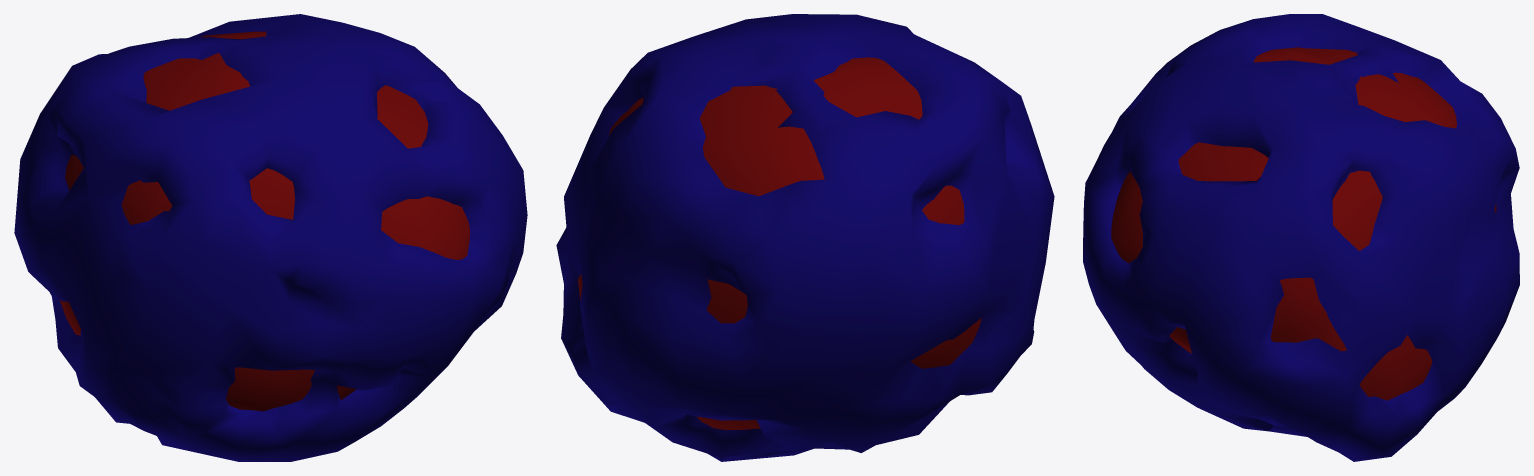
File: ResourceNode0220.FBX
3 renders of one model, left to right at view 1: azimuth 30°, elevation 25°; view 2: azimuth 150°, elevation 25°; view 3: azimuth 270°, elevation 25°, orthographic. The views are drawn at different scales.
Parts seen in each view (by area): view 1: Shell, Core; view 2: Shell, Core; view 3: Shell, Core.
Boxes of the visible parts, x1,y1,x2,y2 form: Shell: (14, 14, 527, 461); Core: (60, 31, 469, 411); Shell: (556, 14, 1054, 461); Core: (578, 57, 981, 429); Shell: (1083, 14, 1519, 461); Core: (1111, 47, 1496, 400).
Size of the model in its own units: 141 by 123 by 136.
